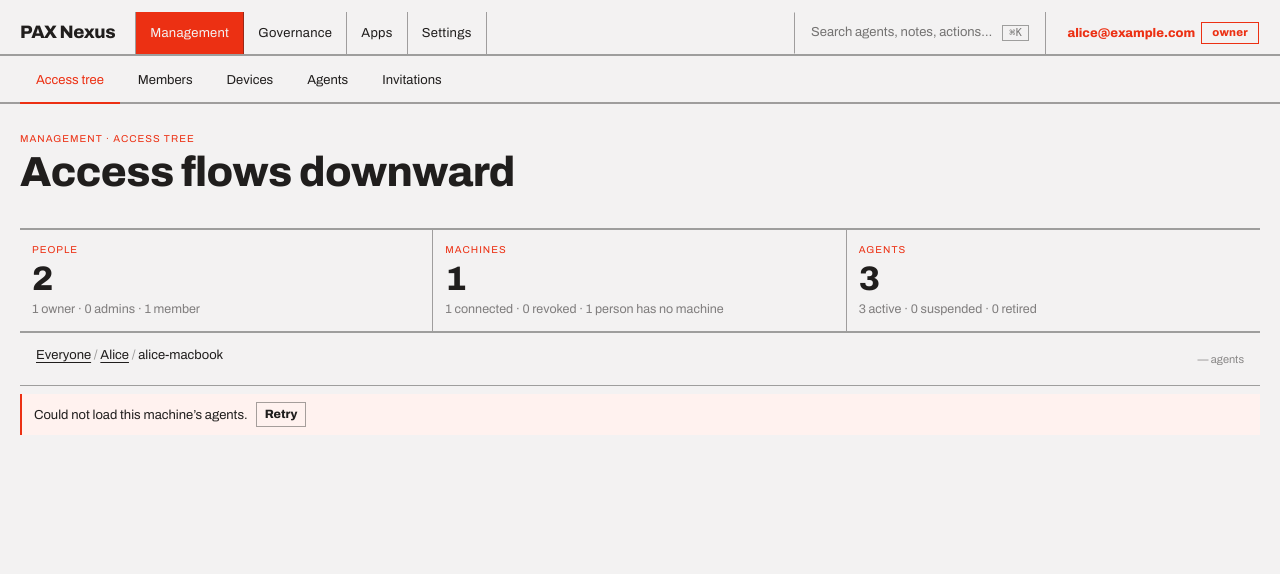
Access tree · agents level › recovers into the real level 3 when the in-level retry succeeds
Expected: the text "Could not load this machine’s agents." is shown, [34, 405, 248, 425]
Click the button "Retry": x=281, y=415 [256, 402, 306, 427]
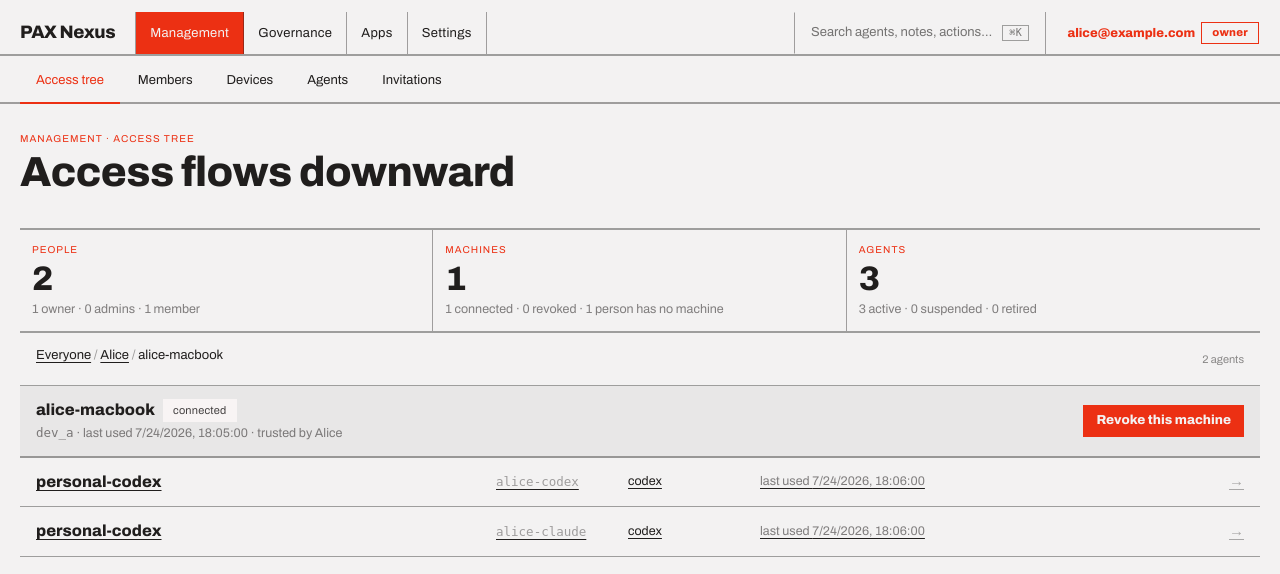
Now the text "alice-codex" is shown, box [496, 474, 579, 489]
Now the text "Could not load this machine" is gone
